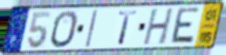5: (26, 10, 53, 49)
E: (168, 7, 202, 46)
H: (141, 7, 176, 47)
I: (84, 9, 99, 49)
O: (49, 10, 79, 50)
T: (117, 9, 139, 46)
